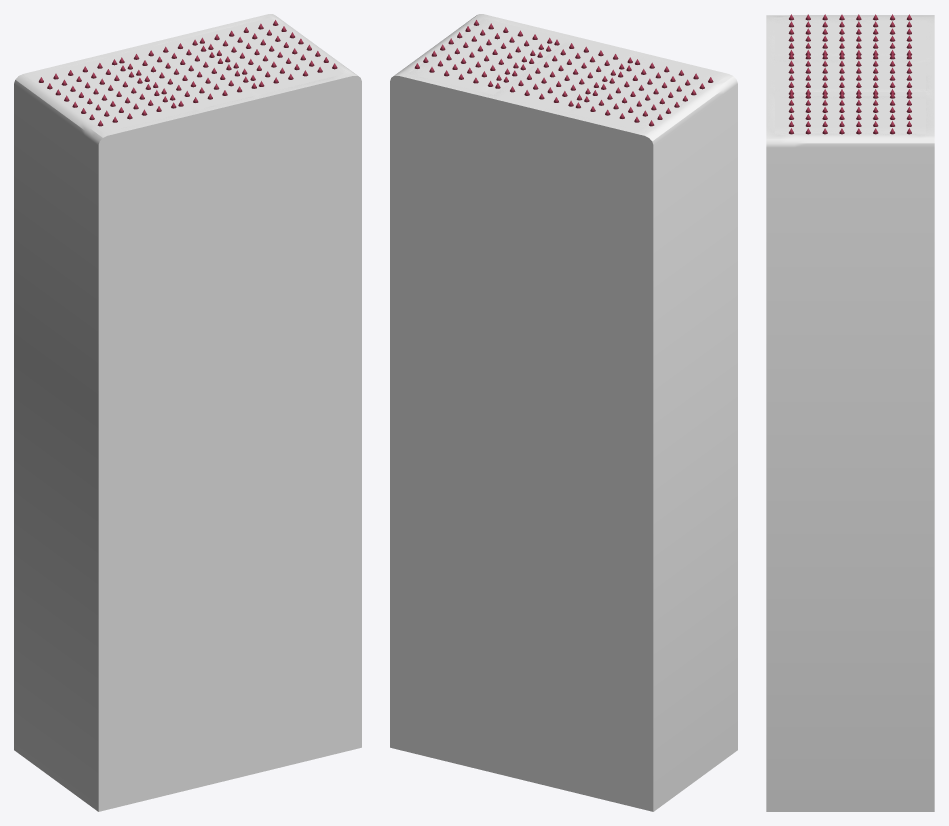
The model's file is Obstacles-Roads.fbx.
3 views of the same model, side by side, from view 1: azimuth 30°, elevation 25°; view 2: azimuth 150°, elevation 25°; view 3: azimuth 270°, elevation 25° (orthographic).
Visible parts, largest first — view 1: obstacle-right-hole, obstacle-left-hole, obstacle-mid-hole, obstacle-thorns, Thorns-Right, Thorns-Left, Thorns-Mid; view 2: obstacle-right-hole, obstacle-left-hole, obstacle-mid-hole, obstacle-thorns, Thorns-Left, Thorns-Mid, Thorns-Right; view 3: obstacle-left-hole, obstacle-right-hole, obstacle-mid-hole, obstacle-thorns, Thorns-Right, Thorns-Left, Thorns-Mid.
Boxes of the visible parts, left/top/right/bottom form: obstacle-right-hole: left=14, top=14, right=361, bottom=811; obstacle-left-hole: left=14, top=14, right=358, bottom=811; obstacle-mid-hole: left=24, top=14, right=352, bottom=798; obstacle-thorns: left=113, top=35, right=271, bottom=110; Thorns-Right: left=38, top=59, right=176, bottom=126; Thorns-Left: left=199, top=20, right=337, bottom=86; Thorns-Mid: left=119, top=39, right=256, bottom=106; obstacle-right-hole: left=399, top=15, right=737, bottom=811; obstacle-left-hole: left=390, top=14, right=727, bottom=807; obstacle-mid-hole: left=402, top=14, right=727, bottom=779; obstacle-thorns: left=475, top=35, right=628, bottom=110; Thorns-Left: left=414, top=20, right=552, bottom=86; Thorns-Mid: left=495, top=39, right=632, bottom=106; Thorns-Right: left=575, top=59, right=713, bottom=126; obstacle-left-hole: left=766, top=16, right=934, bottom=811; obstacle-right-hole: left=766, top=15, right=934, bottom=811; obstacle-mid-hole: left=766, top=16, right=934, bottom=135; obstacle-thorns: left=766, top=52, right=934, bottom=99; Thorns-Right: left=788, top=14, right=911, bottom=55; Thorns-Left: left=788, top=92, right=911, bottom=134; Thorns-Mid: left=788, top=53, right=911, bottom=94.
Bounding box in the file's own units: 900 × 2217 × 500.
